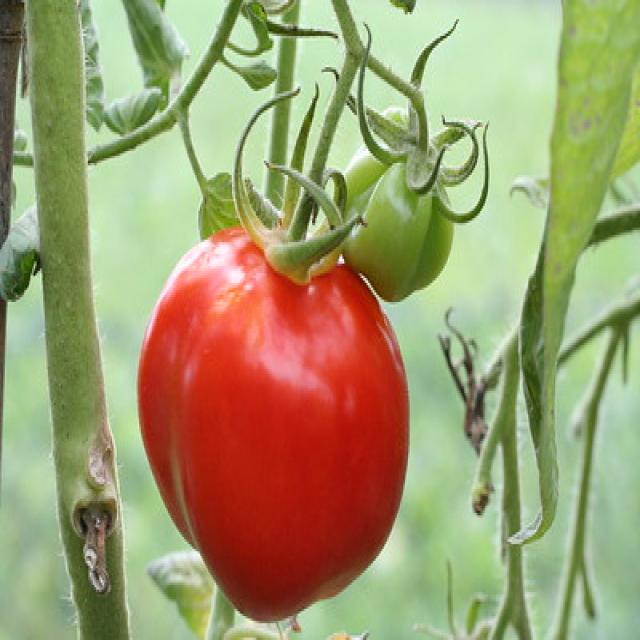Tomato: (134, 226, 411, 622)
